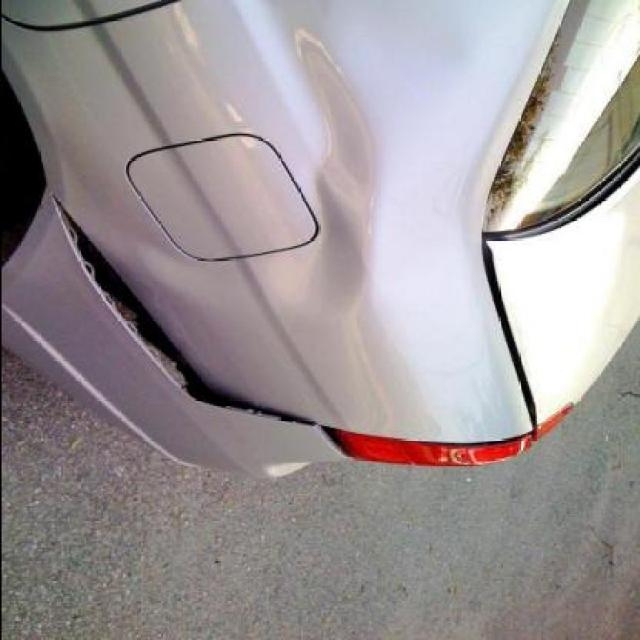damage: (54, 195, 316, 426), (270, 35, 378, 321)
